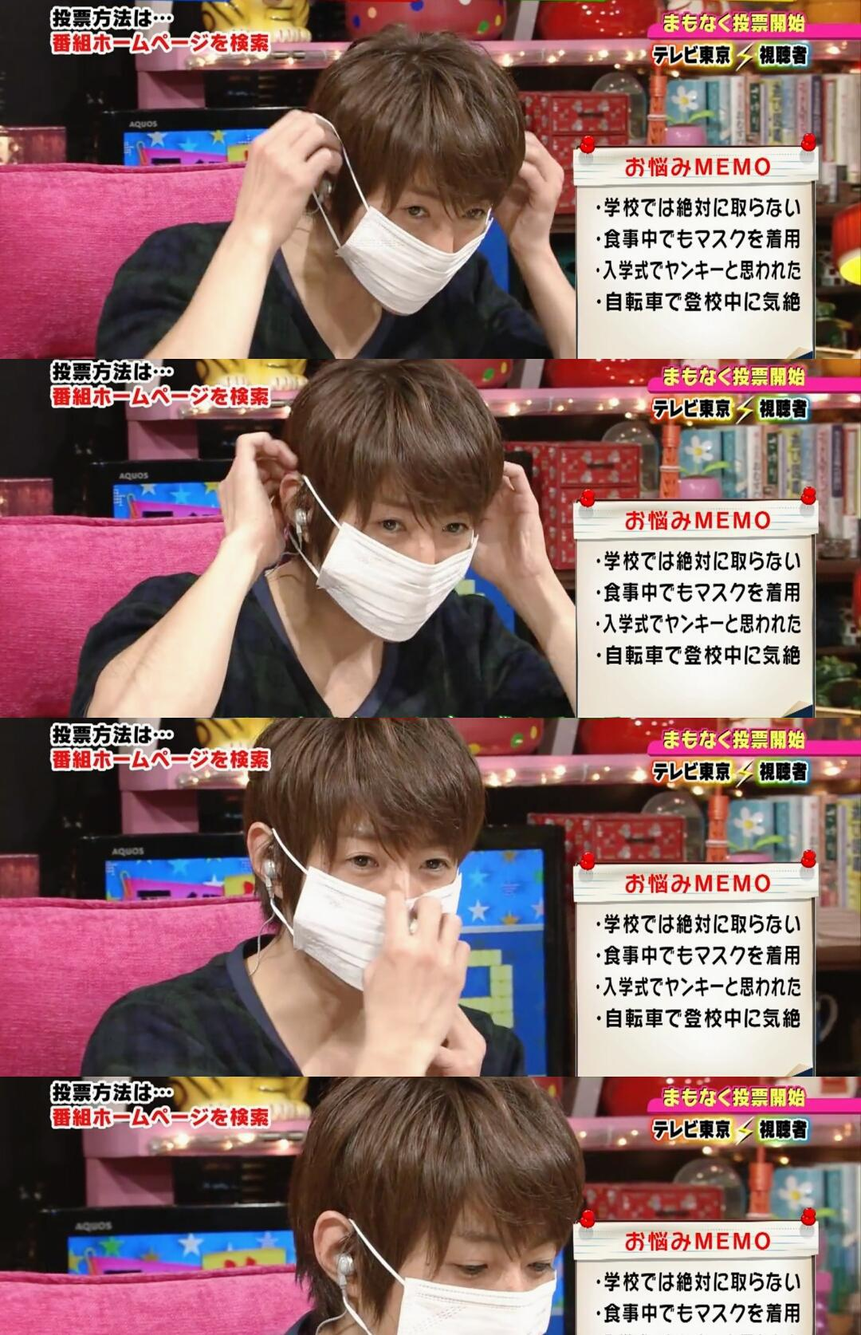OK: (294, 816, 472, 994), (355, 1219, 568, 1335), (328, 485, 480, 636), (344, 162, 495, 313)
